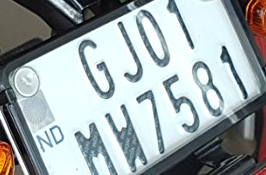0: (134, 9, 174, 69)
1: (218, 43, 252, 102), (167, 1, 197, 49)
5: (160, 72, 202, 133)
7: (135, 89, 166, 154)
8: (191, 61, 227, 118)
G: (76, 38, 117, 101)
J: (113, 21, 145, 84)
M: (72, 123, 119, 175)
W: (103, 104, 150, 173)
